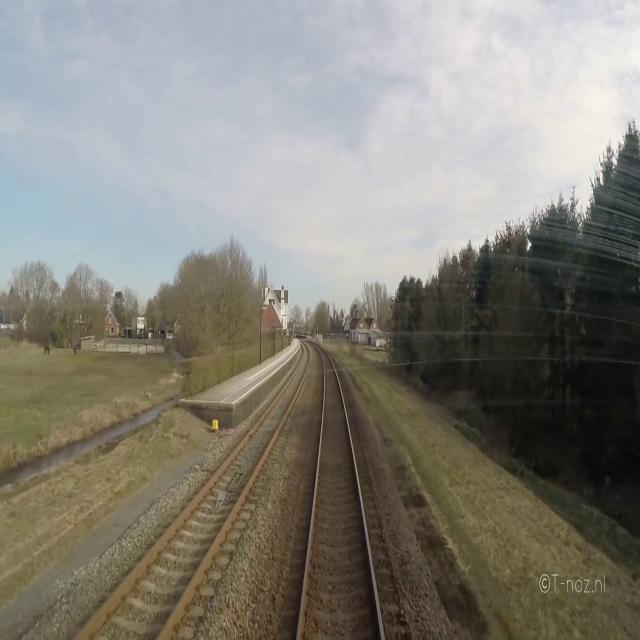rail-track: (79, 347, 307, 639), (300, 350, 380, 639)
